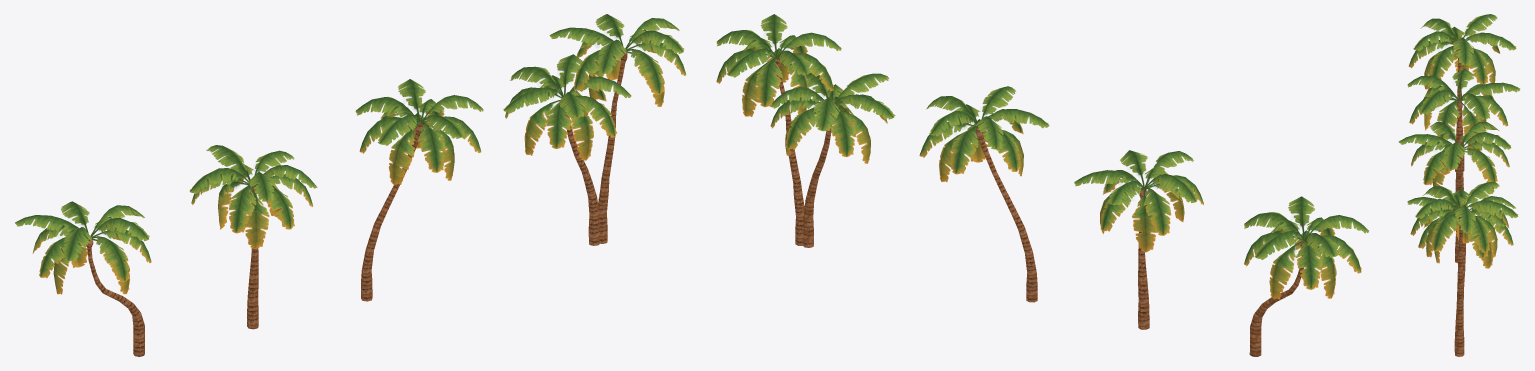
The model's file is palm.glb.
3 views of the same model, side by side, from view 1: azimuth 30°, elevation 25°; view 2: azimuth 150°, elevation 25°; view 3: azimuth 270°, elevation 25° (orthographic). The views are drawn at different scales.
Parts seen in each view (by area): view 1: Leaf_4, Leaf_3, Leaf_2, Leaf_1, Bark_4, Bark_3, Bark_1, Bark_2; view 2: Leaf_4, Leaf_1, Leaf_2, Leaf_3, Bark_4, Bark_3, Bark_1, Bark_2; view 3: Leaf_4, Leaf_1, Leaf_3, Leaf_2, Bark_4, Bark_2, Bark_3, Bark_1.
Part boxes in pixels (left/top/right/bottom): Leaf_4: left=503, top=14, right=686, bottom=160; Leaf_3: left=355, top=79, right=483, bottom=184; Leaf_2: left=189, top=145, right=317, bottom=249; Leaf_1: left=15, top=201, right=151, bottom=294; Bark_4: left=564, top=51, right=627, bottom=245; Bark_3: left=361, top=122, right=423, bottom=301; Bark_1: left=86, top=239, right=144, bottom=356; Bark_2: left=247, top=186, right=258, bottom=329; Leaf_4: left=716, top=14, right=895, bottom=163; Leaf_1: left=1244, top=196, right=1368, bottom=299; Leaf_2: left=1074, top=150, right=1203, bottom=252; Leaf_3: left=919, top=86, right=1049, bottom=182; Bark_4: left=774, top=58, right=833, bottom=247; Bark_3: left=975, top=127, right=1037, bottom=302; Bark_1: left=1249, top=241, right=1304, bottom=356; Bark_2: left=1138, top=187, right=1149, bottom=329; Leaf_4: left=1407, top=181, right=1518, bottom=268; Leaf_1: left=1408, top=14, right=1516, bottom=89; Leaf_3: left=1398, top=121, right=1511, bottom=197; Leaf_2: left=1407, top=68, right=1520, bottom=152; Bark_4: left=1454, top=216, right=1465, bottom=356; Bark_2: left=1455, top=100, right=1463, bottom=191; Bark_3: left=1455, top=154, right=1461, bottom=263; Bark_1: left=1455, top=48, right=1464, bottom=171.
Size of the model in its own units: 17.15 by 5.31 by 3.44.
7 materials, 7 textured.
